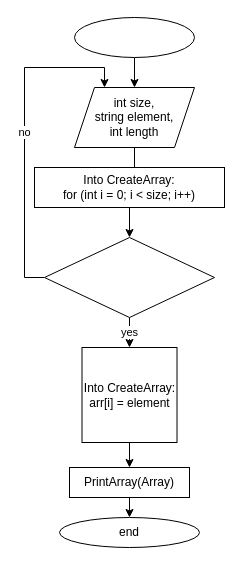
This 242x565 diagram has some shape labels left out. The box of each missing label's shape, as (x1, y1, x2, y2) in pixels:
length > 0 && length < 4: (44, 236, 214, 318)
start: (74, 16, 194, 58)
